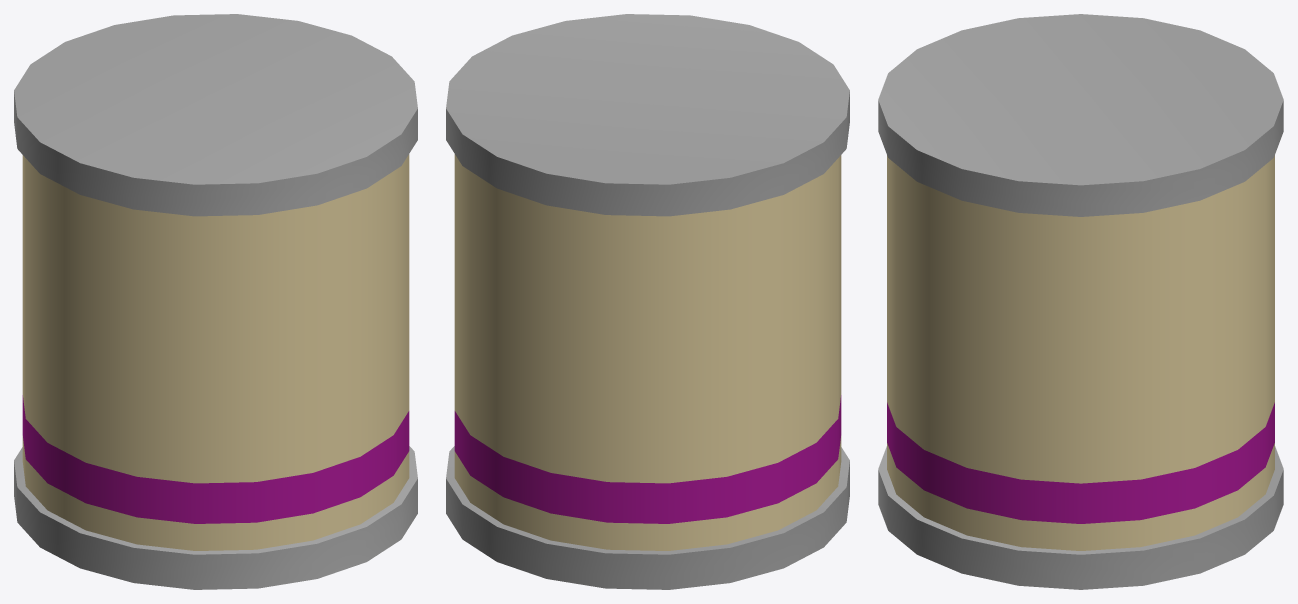
Rendered from Ürün32.fbx.
The picture shows the model from 3 angles, left to right: view 1: azimuth 30°, elevation 25°; view 2: azimuth 150°, elevation 25°; view 3: azimuth 270°, elevation 25°; orthographic projection.
Parts seen in each view (by area): view 1: pCylinder17; view 2: pCylinder17; view 3: pCylinder17.
Boxes of the visible parts, x1=… form: pCylinder17: x1=14, y1=14, x2=417, y2=589; pCylinder17: x1=446, y1=14, x2=849, y2=589; pCylinder17: x1=878, y1=14, x2=1283, y2=589.
Bounding box in the file's own units: 9.51 × 10.47 × 9.51.
